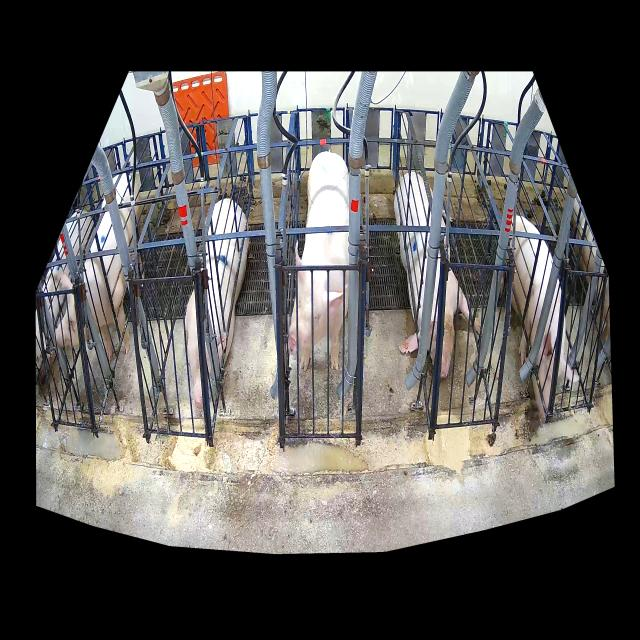pig: (55, 173, 142, 362), (394, 172, 469, 378), (511, 215, 579, 421), (185, 198, 249, 409), (288, 151, 349, 372)
